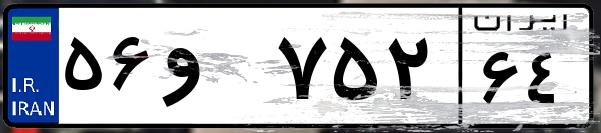2: (385, 28, 445, 110)
4: (525, 38, 570, 115)
5: (330, 28, 385, 110), (57, 26, 110, 100)
6: (475, 38, 525, 113), (110, 28, 158, 98)
7: (270, 28, 330, 110)
و: (158, 20, 270, 120)
